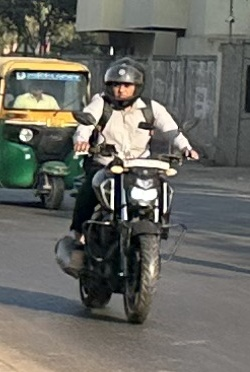BikeWithRider: (49, 53, 204, 327)
Helmet: (95, 56, 151, 110)
